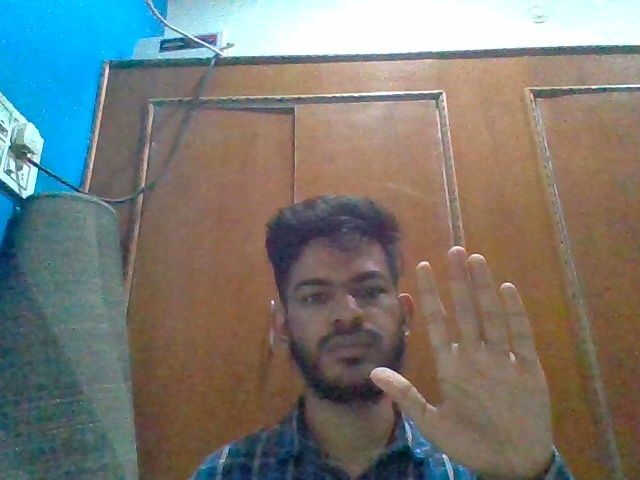hello: (365, 244, 558, 480)
